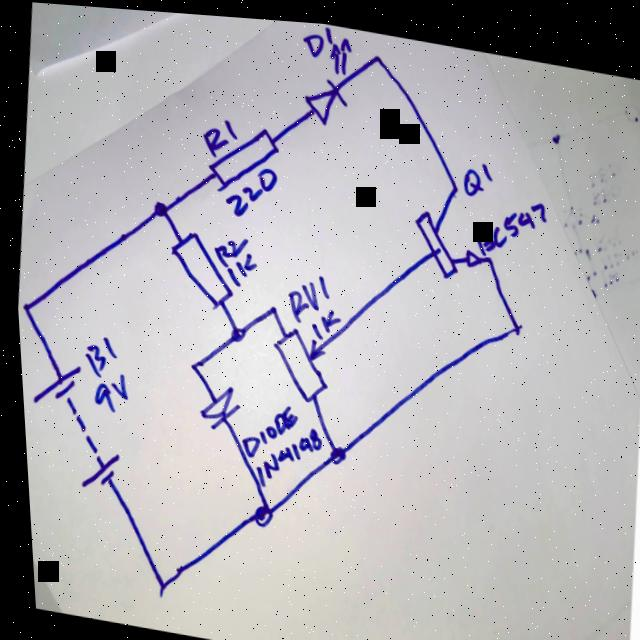diode: (296, 25, 363, 127), (190, 376, 239, 432)
junction: (242, 494, 269, 526), (321, 437, 342, 462), (148, 197, 165, 217), (223, 320, 240, 340), (148, 575, 162, 591), (505, 313, 519, 329), (369, 43, 383, 59), (15, 298, 29, 313), (262, 298, 276, 313), (183, 356, 196, 371), (479, 245, 491, 258), (447, 175, 459, 187)
resistor: (157, 222, 237, 313), (198, 114, 282, 199), (261, 317, 330, 403)
source: (20, 354, 80, 413), (71, 445, 117, 494)
text: (245, 411, 322, 494), (469, 182, 548, 257), (232, 392, 297, 463), (218, 155, 279, 219), (280, 264, 329, 324), (75, 329, 116, 380), (196, 109, 238, 157), (86, 365, 127, 414), (207, 226, 248, 267), (220, 244, 257, 287), (457, 151, 494, 193), (303, 298, 340, 337), (299, 17, 336, 55)
transistor: (403, 182, 485, 279)
